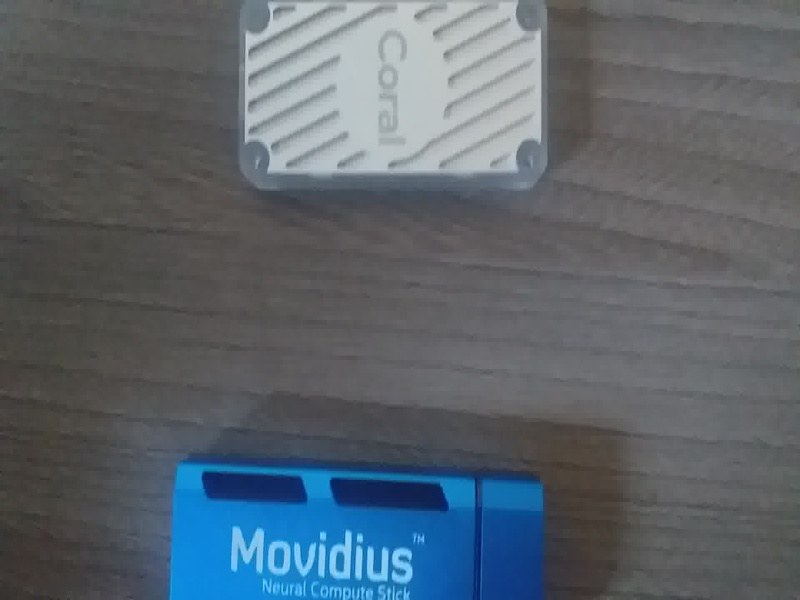coral: (224, 4, 555, 209)
movidius: (164, 446, 562, 600)
